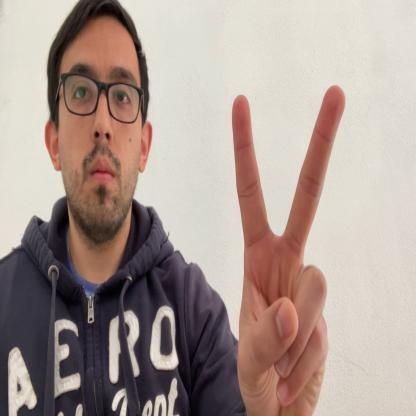V: (231, 83, 346, 415)
